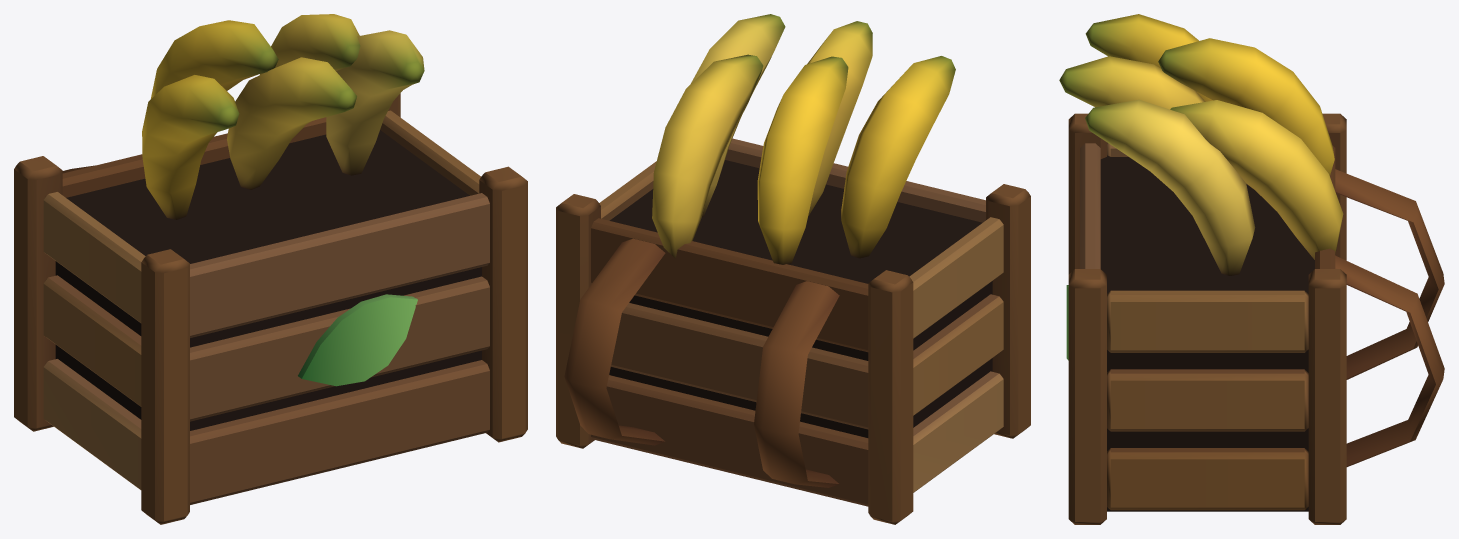
Rendered from cratepack.glb.
3 renders of one model, left to right at view 1: azimuth 30°, elevation 25°; view 2: azimuth 150°, elevation 25°; view 3: azimuth 270°, elevation 25°, orthographic. The views are drawn at different scales.
Parts seen in each view (by area): view 1: cratepack; view 2: cratepack; view 3: cratepack.
Part boxes in pixels (box(x1,y1,x2,y2)): cratepack: box(14, 14, 527, 524); cratepack: box(556, 14, 1030, 524); cratepack: box(1059, 14, 1444, 524).
Bounding box in the file's own units: 0.318 × 0.3332 × 0.302.
